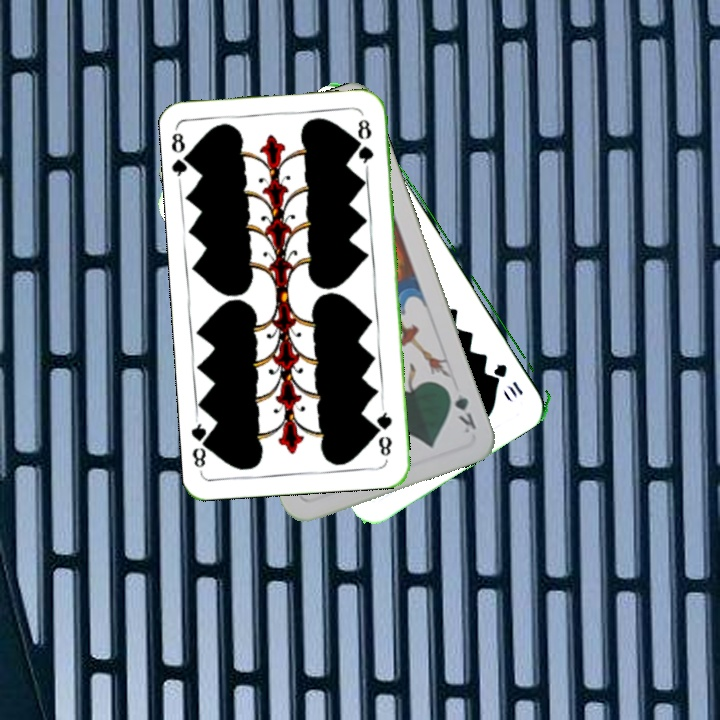G10: (491, 359, 526, 399)
G8: (167, 126, 196, 185), (372, 403, 395, 459)
GK: (442, 383, 479, 436)
